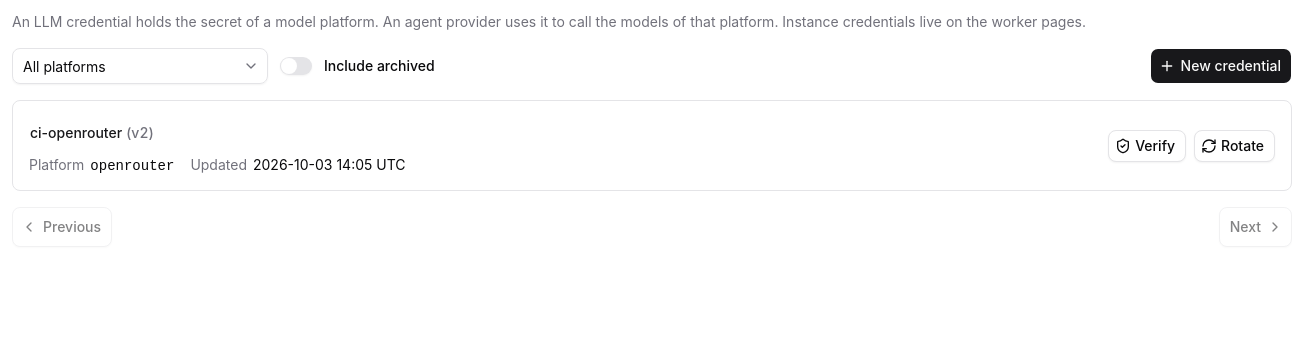
Test: CredentialsScreen › includes archived credentials on request and offers only Revisions on them
Expected: the button with aria-label "Verify ci-openrouter" is shown, x1=1108 y1=130 x2=1186 y2=162
Click the switch named "Include archived": (296,66) x1=280 y1=57 x2=312 y2=75
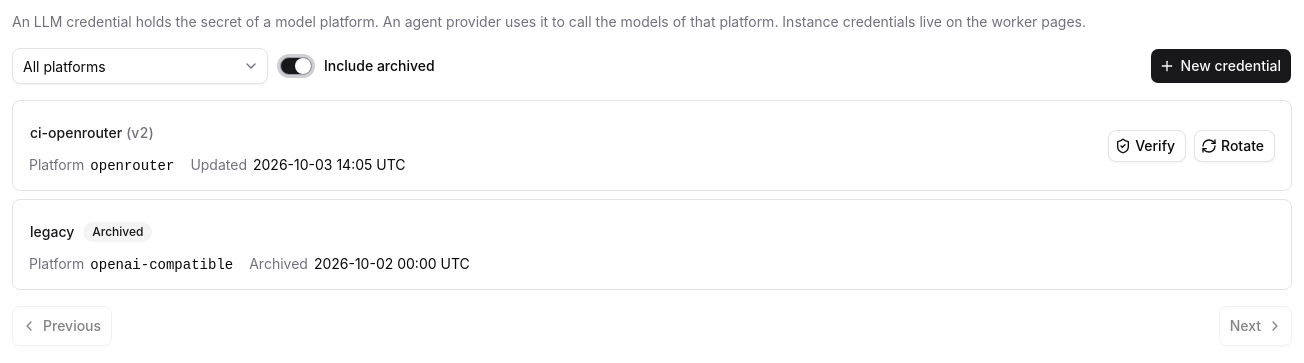
Expected: the text "Updated" is shown, x1=190 y1=155 x2=247 y2=175
Expected: the text "Archived" is shown 2 times, x1=83 y1=222 x2=152 y2=242; x1=249 y1=254 x2=308 y2=274
